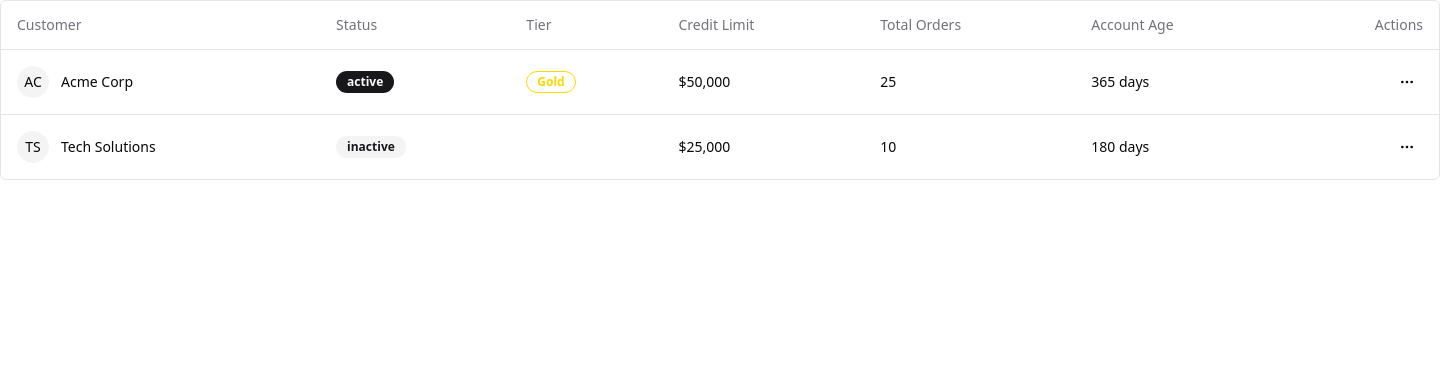
Test: CustomerTable › Action Menu › should open action menu when clicked
The width and height of the screenshot is (1440, 384).
Click the button named "open menu" in the row of "Acme Corp". click: (1407, 82)
box: [1391,66,1423,98]
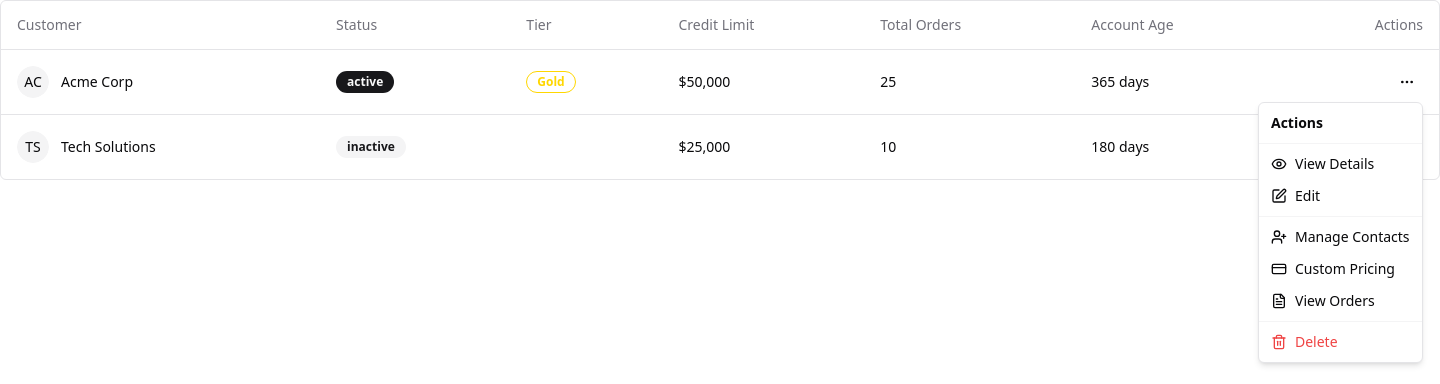
Now the menu item "View Details" is shown, box [1271,154,1374,173]
Now the menu item "Edit" is shown, box [1271,186,1320,205]
Now the menu item "Manage Contacts" is shown, box [1271,227,1410,246]
